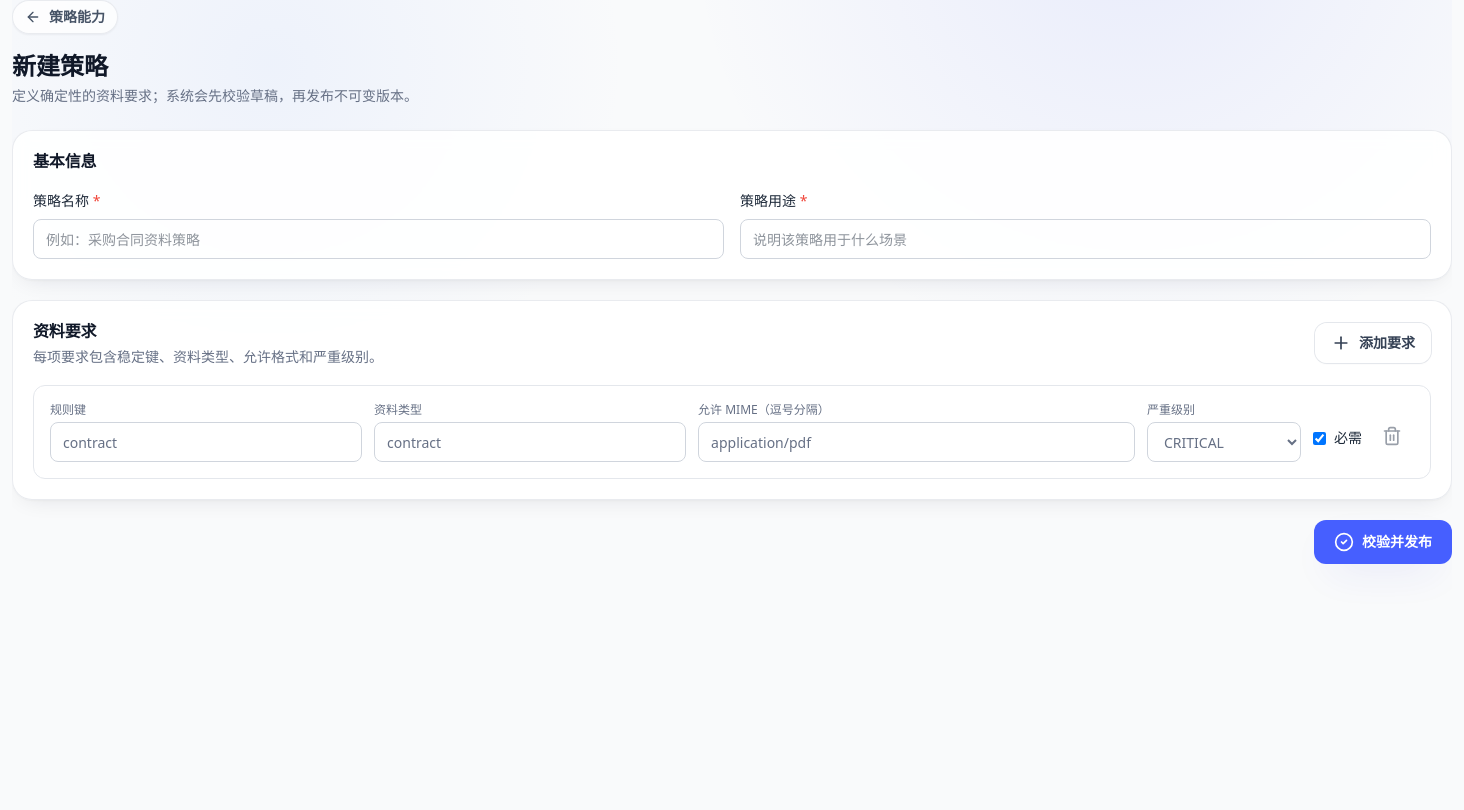
Test: policy create page › creates, validates, and publishes a policy
Type "采购资料策略" into the field labelled "策略名称".
click(378, 239); type("采购资料策略")  # box [33, 219, 724, 259]
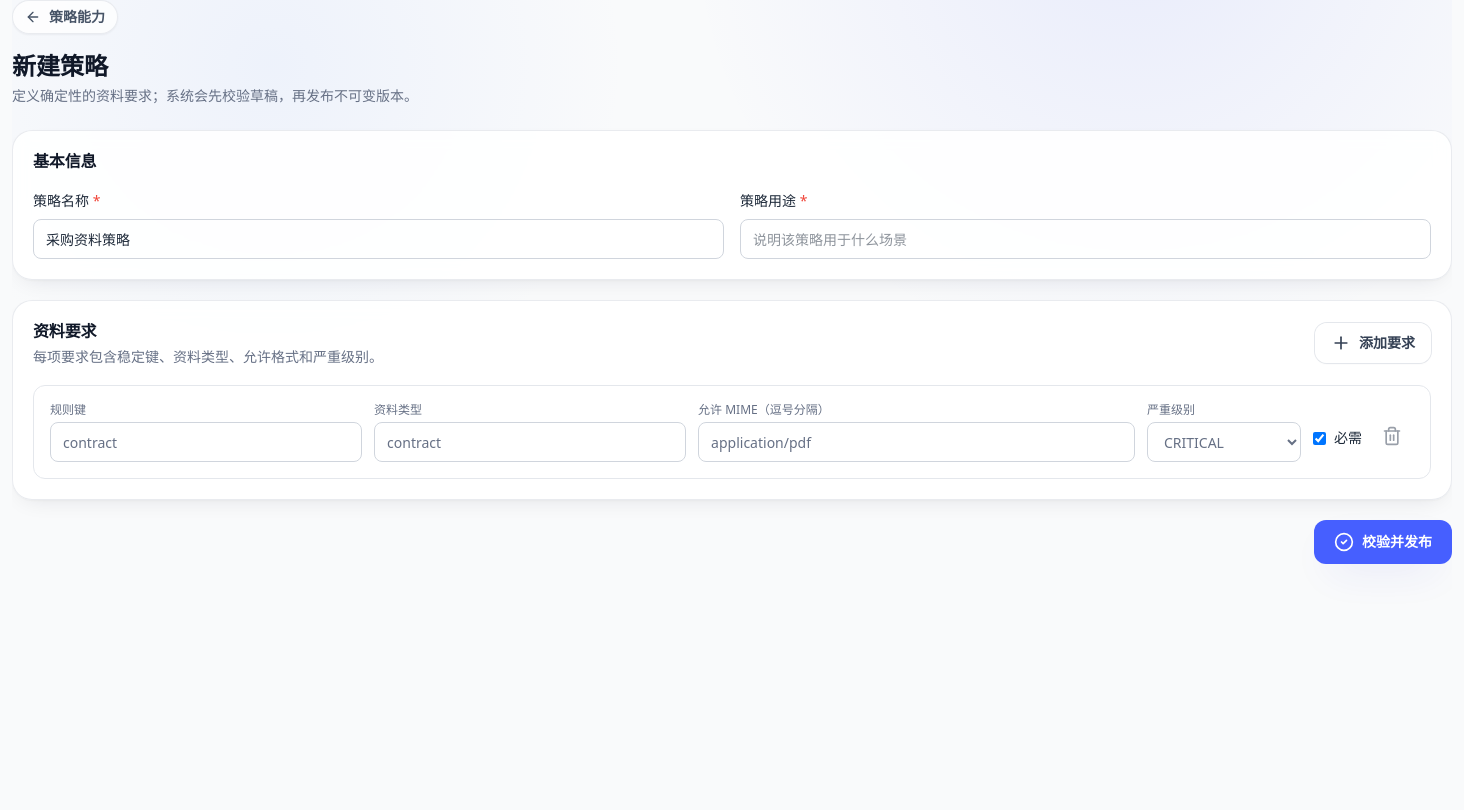
Type "采购合同资料校验" into the field labelled "策略用途".
click(1086, 239); type("采购合同资料校验")  # box [740, 219, 1431, 259]
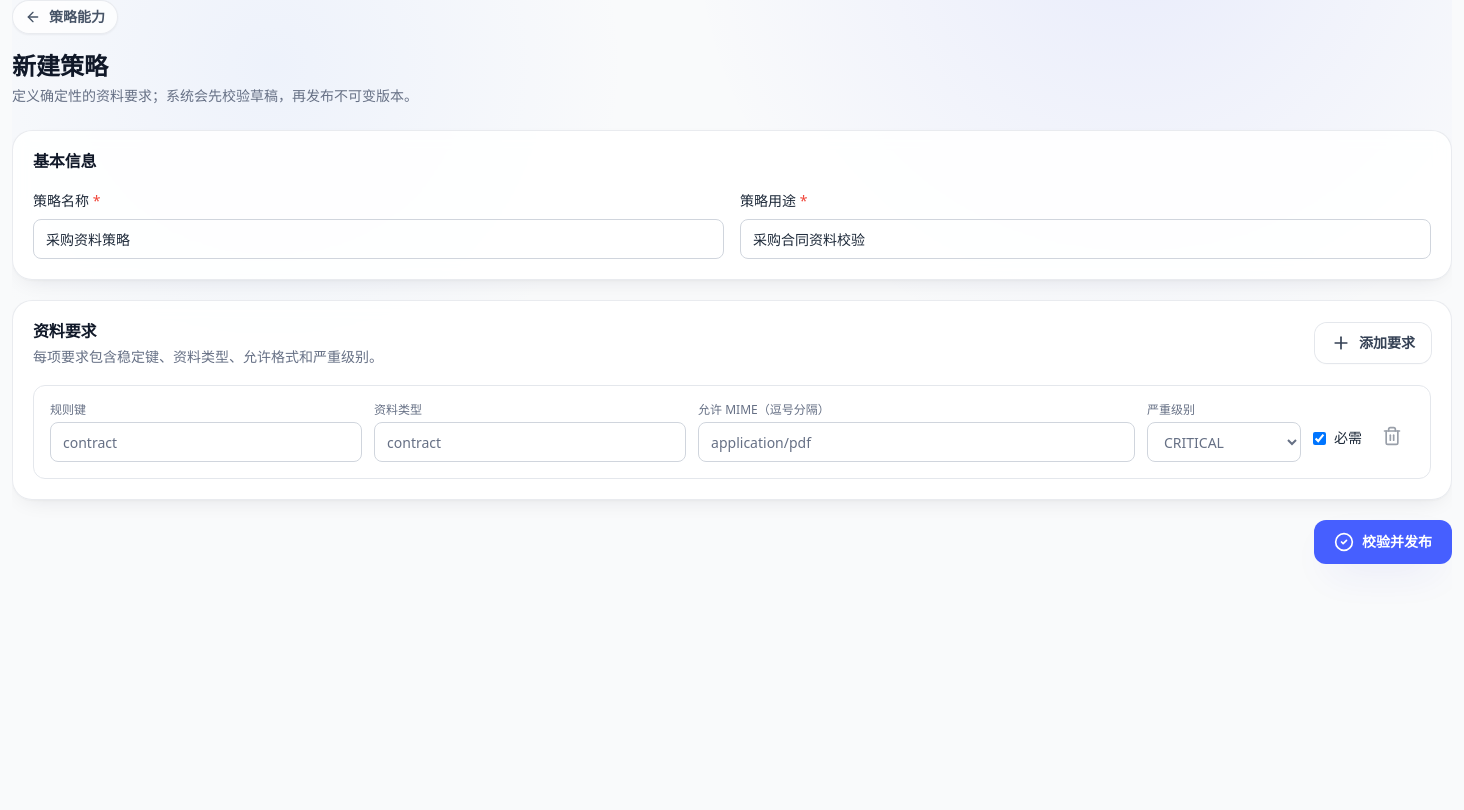
Click the button "校验并发布".
click(1383, 542)  # box [1314, 520, 1452, 564]
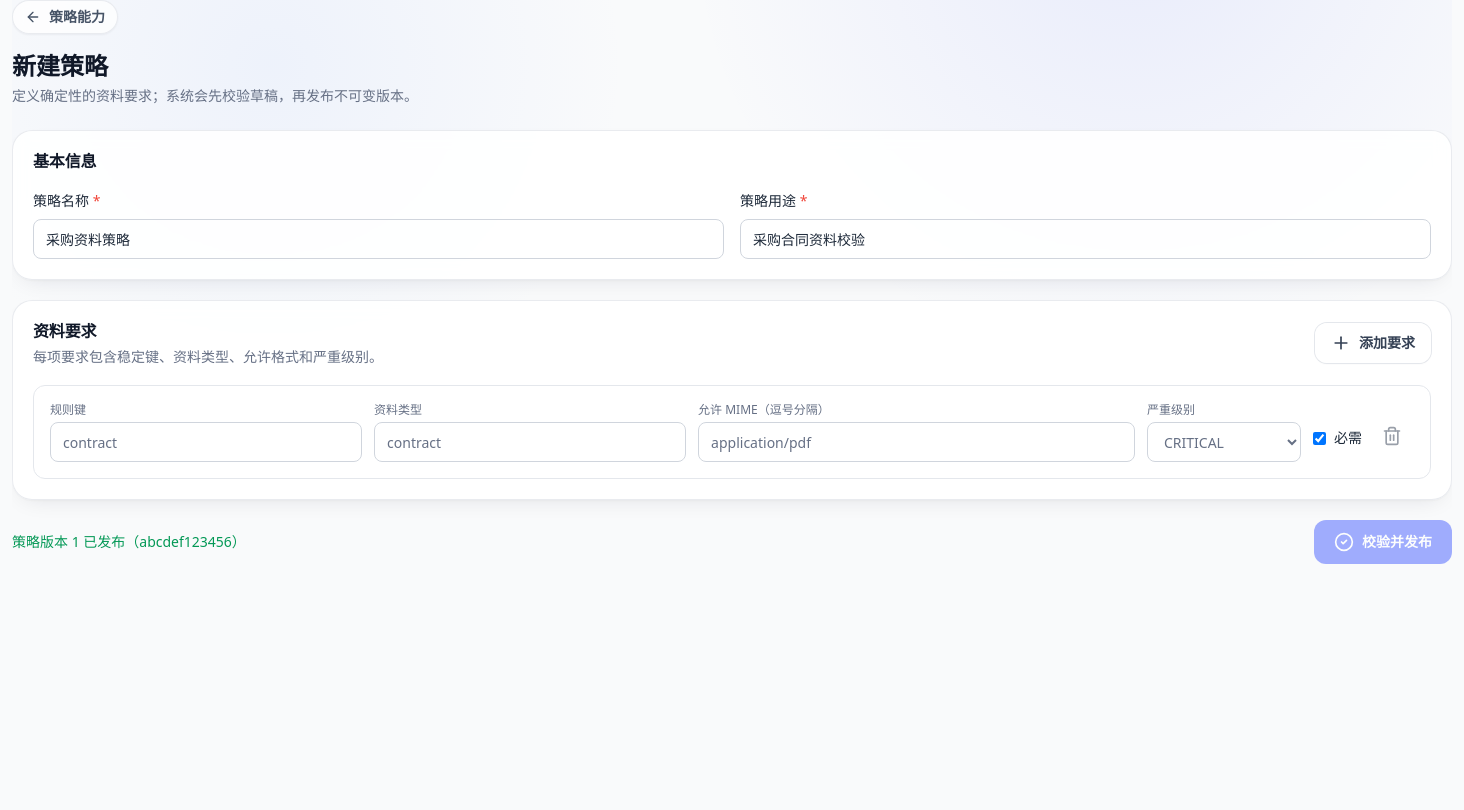
Check: the message shows "策略版本 1 已发布", box [12, 532, 246, 552]
